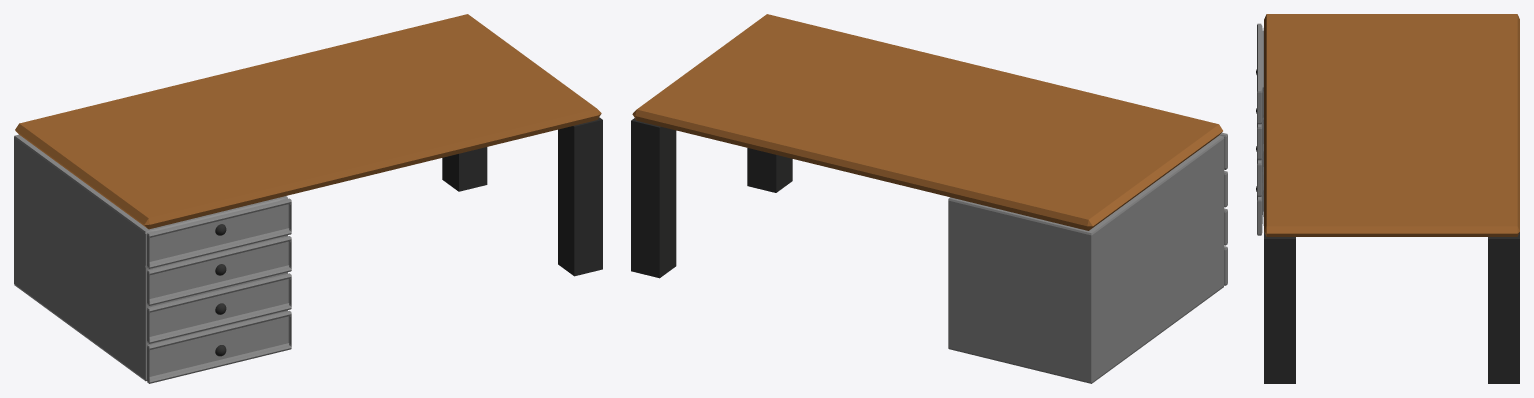
File: Desk.fbx
3 renders of one model, left to right at view 1: azimuth 30°, elevation 25°; view 2: azimuth 150°, elevation 25°; view 3: azimuth 270°, elevation 25°, orthographic. The views are drawn at different scales.
Parts seen in each view (by area): view 1: Desk; view 2: Desk; view 3: Desk.
Part boxes in pixels (bbox=[...]): Desk: bbox=[14, 14, 602, 383]; Desk: bbox=[631, 14, 1227, 383]; Desk: bbox=[1256, 14, 1519, 383].
Size of the model in its own units: 1.6 by 0.8255 by 0.5398.
